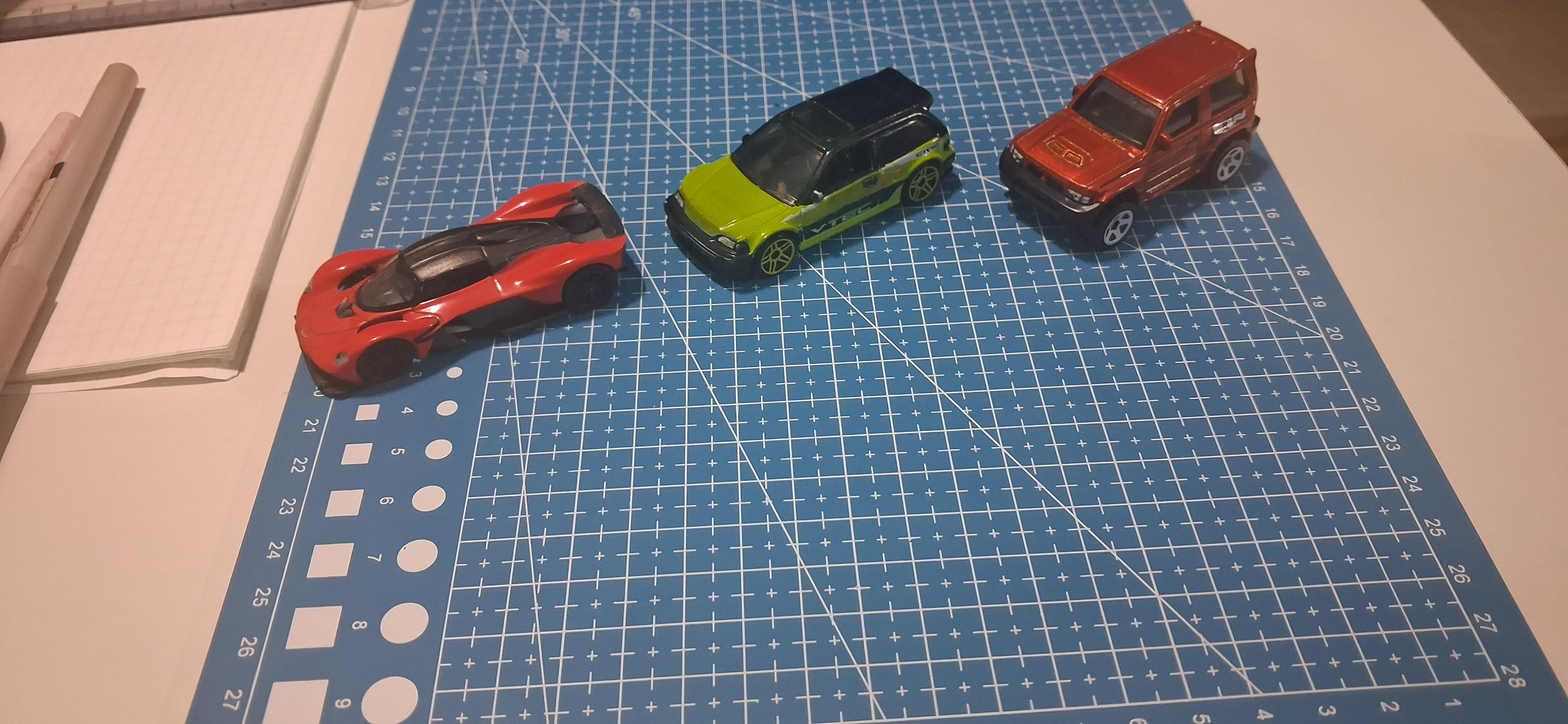Aston_Martin_Valkyrie: (271, 141, 632, 450)
Honda_Civic: (649, 23, 961, 329)
Mitsubishi_Pajero_Evolution: (995, 5, 1285, 284)
